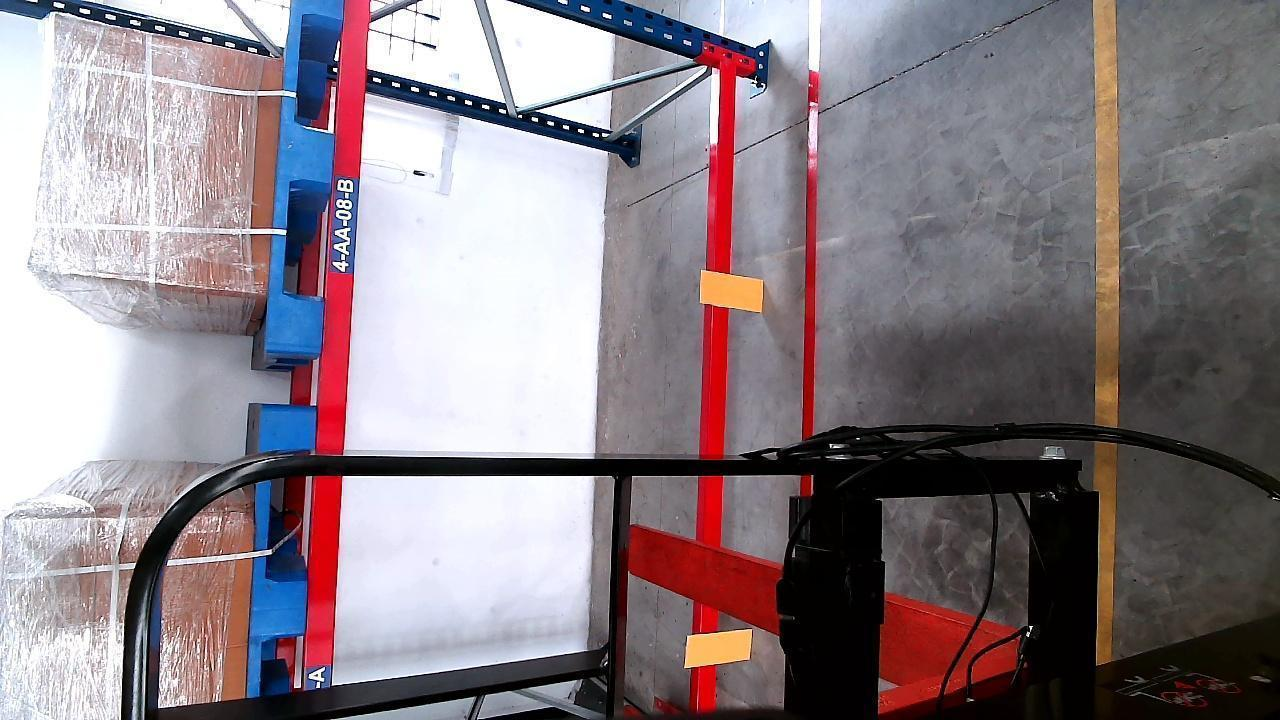red_line: (799, 4, 825, 445)
yellow_line: (1094, 0, 1122, 665)
